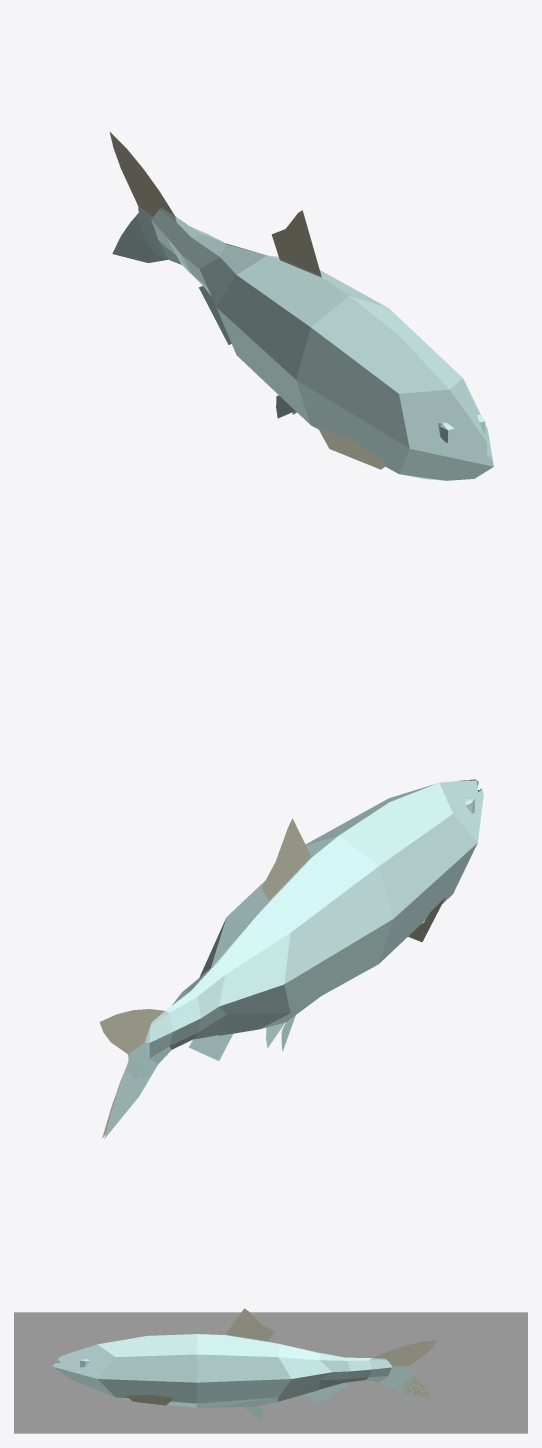
The model's file is hering5.glb.
The picture shows the model from 3 angles, top to bottom: view 1: azimuth 30°, elevation 25°; view 2: azimuth 150°, elevation 25°; view 3: azimuth 270°, elevation 25°; orthographic projection. The views are drawn at different scales.
Visible parts, largest first — view 1: Cube; view 2: Cube; view 3: Plane, Cube.
Part boxes in pixels (x1=…): Cube: x1=109, y1=132, x2=493, y2=480; Cube: x1=99, y1=779, x2=483, y2=1138; Plane: x1=14, y1=1312, x2=527, y2=1433; Cube: x1=52, y1=1308, x2=436, y2=1419.
Bounding box in the file's own units: 0.8046 × 1.75 × 6.42.
Materials: 1 (1 with a texture image).
